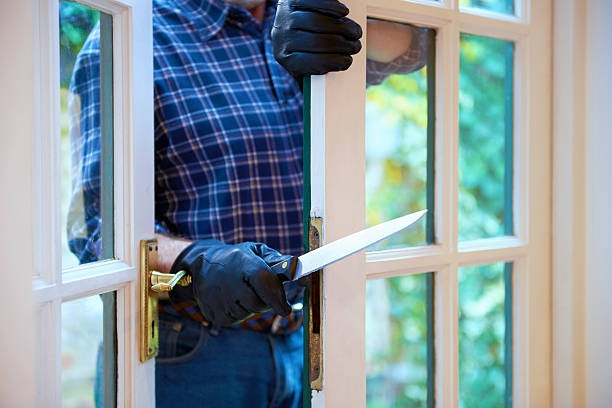knife: (228, 207, 430, 300)
